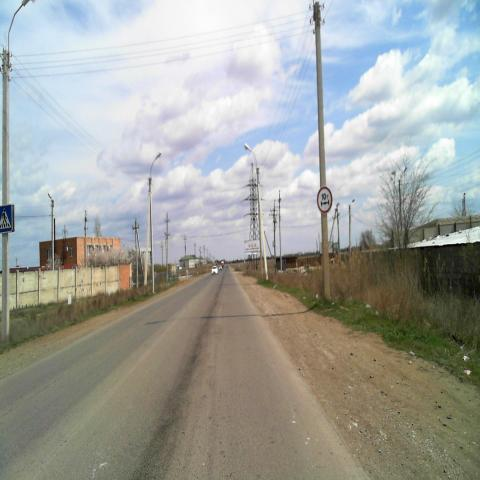3_12: (318, 186, 332, 214)
